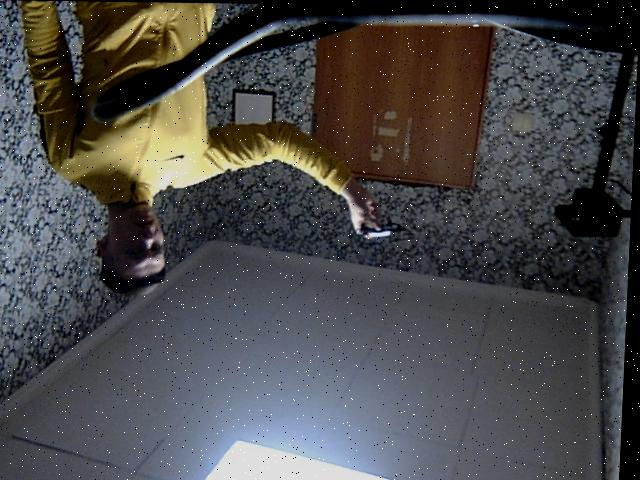drone: (336, 208, 418, 255)
